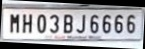character: (21, 13, 32, 34), (35, 13, 46, 34), (9, 13, 20, 33), (48, 14, 59, 33), (62, 13, 72, 33), (113, 13, 123, 33), (75, 14, 85, 33), (89, 14, 99, 33), (126, 13, 135, 34), (101, 14, 110, 34)
